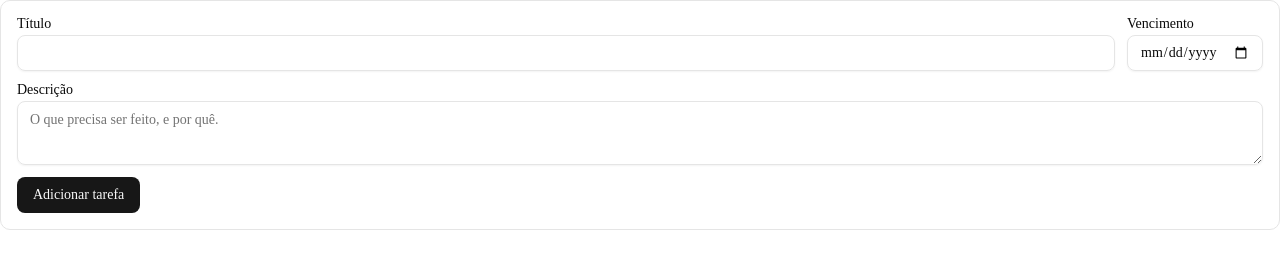
TaskForm › falha NÃO limpa o formulário — o que foi digitado continua lá
Type "Tarefa que falhou" into the field labelled "Título".
click(566, 53); type("Tarefa que falhou")  # box [17,35,1115,71]
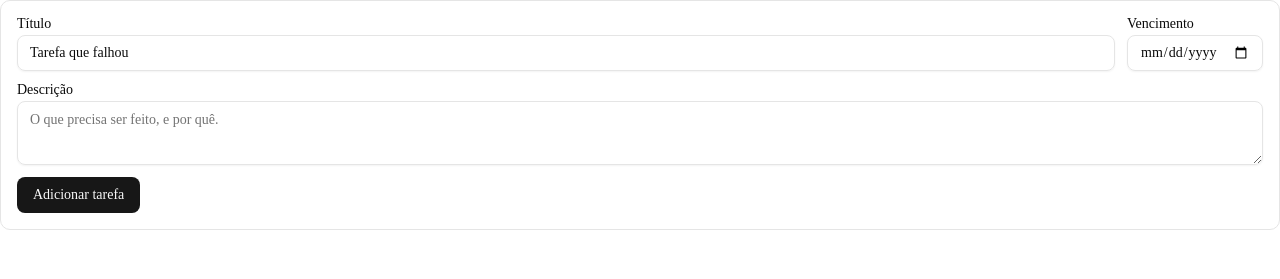
Type "2026-08-05" into the date field labelled "Vencimento".
click(1195, 53); type("2026-08-05")  # box [1127,35,1263,71]
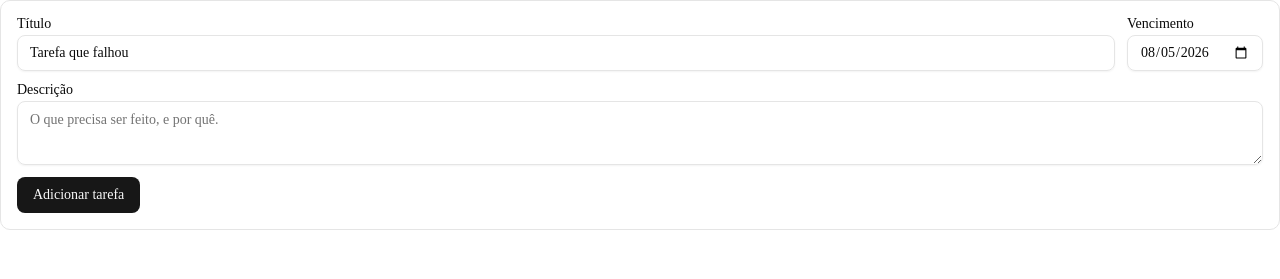
Click the button "Adicionar tarefa".
click(79, 195)  # box [17,177,140,213]
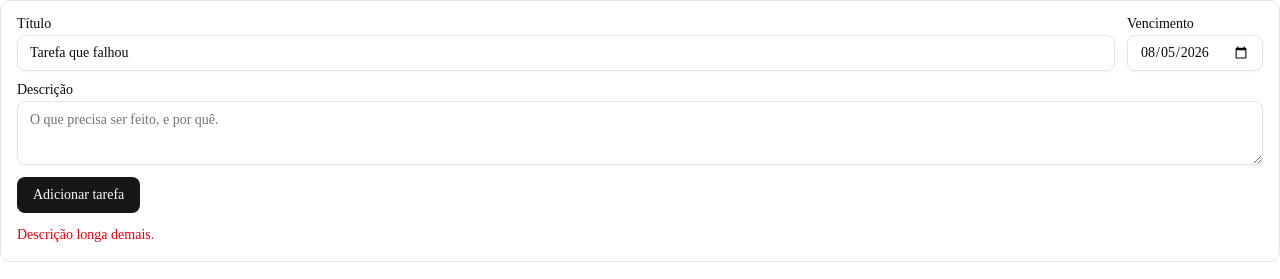
Check: the message "Descrição longa demais." is shown, box [17,227,154,242]
